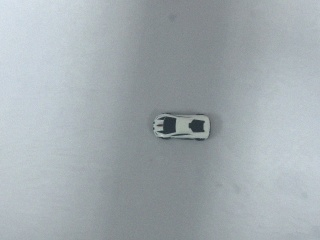toy_car: (153, 114, 210, 141)
